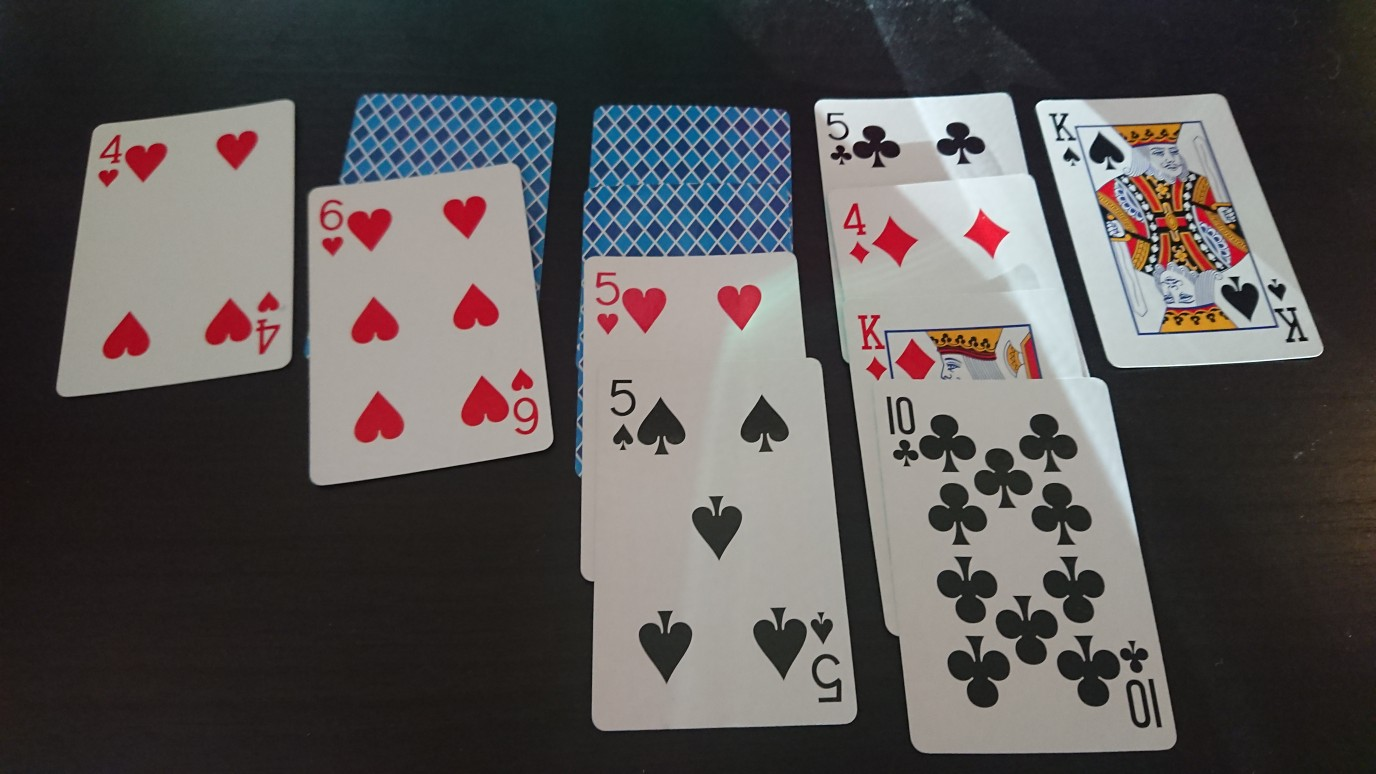10C: (883, 392, 920, 469)
4D: (841, 200, 872, 266)
4H: (95, 132, 124, 189)
5C: (823, 109, 854, 167)
5H: (592, 268, 622, 337)
5S: (607, 375, 638, 453)
6H: (317, 197, 346, 260)
BACK: (342, 93, 558, 181), (588, 103, 792, 186), (582, 183, 793, 253)
KD: (853, 311, 890, 382)
KS: (1046, 109, 1086, 169)
